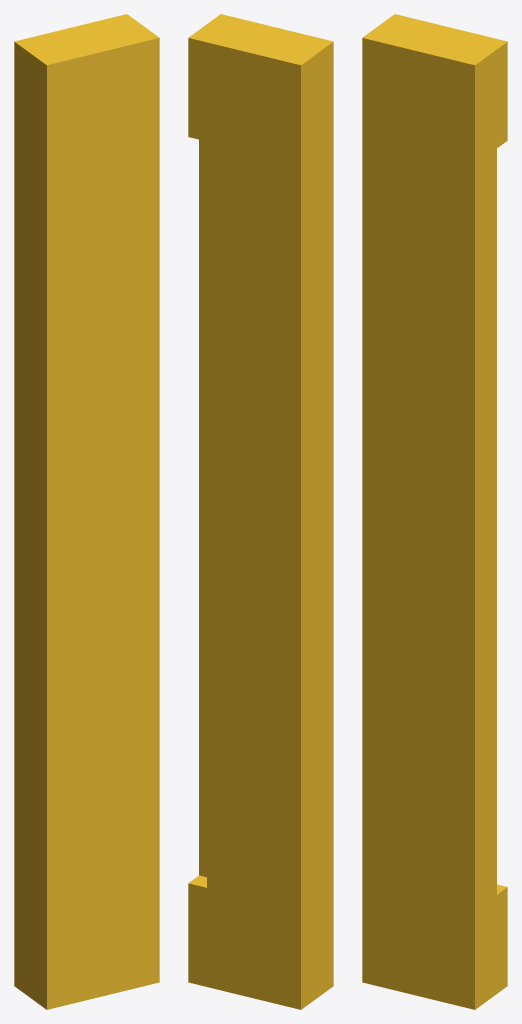
Rendered from original-62.obj.
The picture shows the model from 3 angles, left to right: view 1: azimuth 30°, elevation 25°; view 2: azimuth 150°, elevation 25°; view 3: azimuth 330°, elevation 25°; orthographic projection.
Parts seen in each view (by area): view 1: _1x2_11/Door_Sides/mesh110/mesh110-geometry#mesh110-geometry; view 2: _1x2_11/Door_Sides/mesh110/mesh110-geometry#mesh110-geometry; view 3: _1x2_11/Door_Sides/mesh110/mesh110-geometry#mesh110-geometry.
Part boxes in pixels (x1,y1,x2,y2): _1x2_11/Door_Sides/mesh110/mesh110-geometry#mesh110-geometry: [14, 14, 159, 1009]; _1x2_11/Door_Sides/mesh110/mesh110-geometry#mesh110-geometry: [188, 14, 333, 1009]; _1x2_11/Door_Sides/mesh110/mesh110-geometry#mesh110-geometry: [362, 14, 507, 1009].
Bounding box in the file's own units: 0.0499 × 0.399 × 0.0249.
